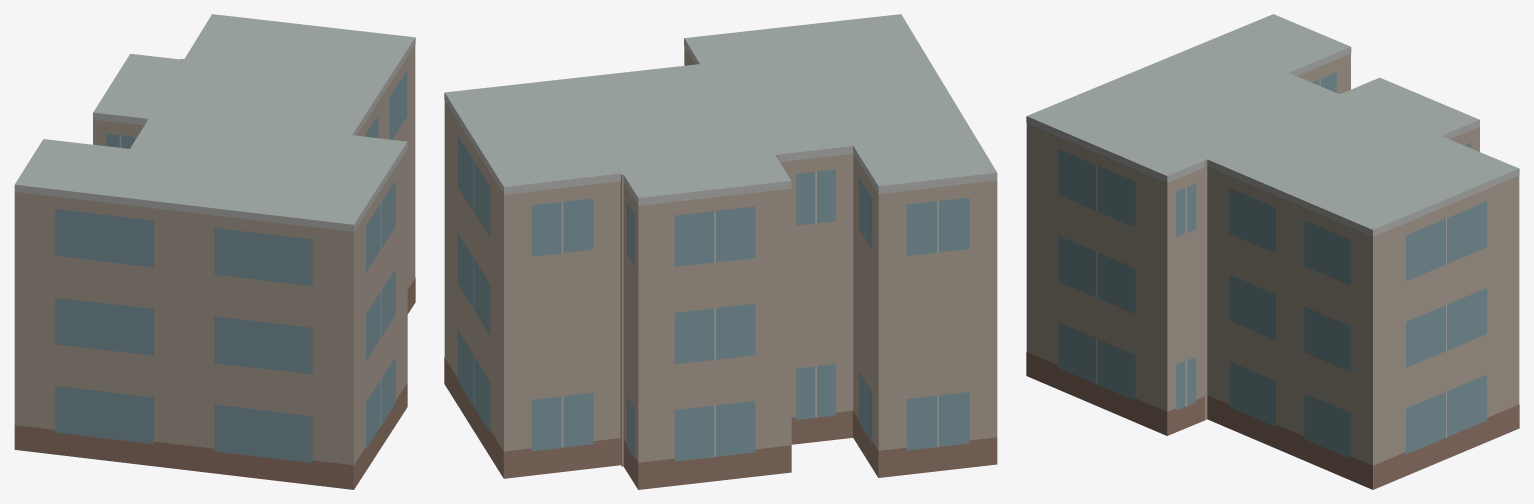
The model's file is survey-upis-33006348.glb.
The picture shows the model from 3 angles, left to right: view 1: azimuth 30°, elevation 25°; view 2: azimuth 150°, elevation 25°; view 3: azimuth 270°, elevation 25°; orthographic projection. The views are drawn at different scales.
Parts seen in each view (by area): view 1: survey-upis-33006348.tmp; view 2: survey-upis-33006348.tmp; view 3: survey-upis-33006348.tmp.
Boxes of the visible parts, left/top/right/bottom form: survey-upis-33006348.tmp: left=14, top=14, right=415, bottom=489; survey-upis-33006348.tmp: left=444, top=14, right=997, bottom=489; survey-upis-33006348.tmp: left=1026, top=14, right=1519, bottom=489.
Size of the model in its own units: 16.32 by 9.15 by 15.74.
